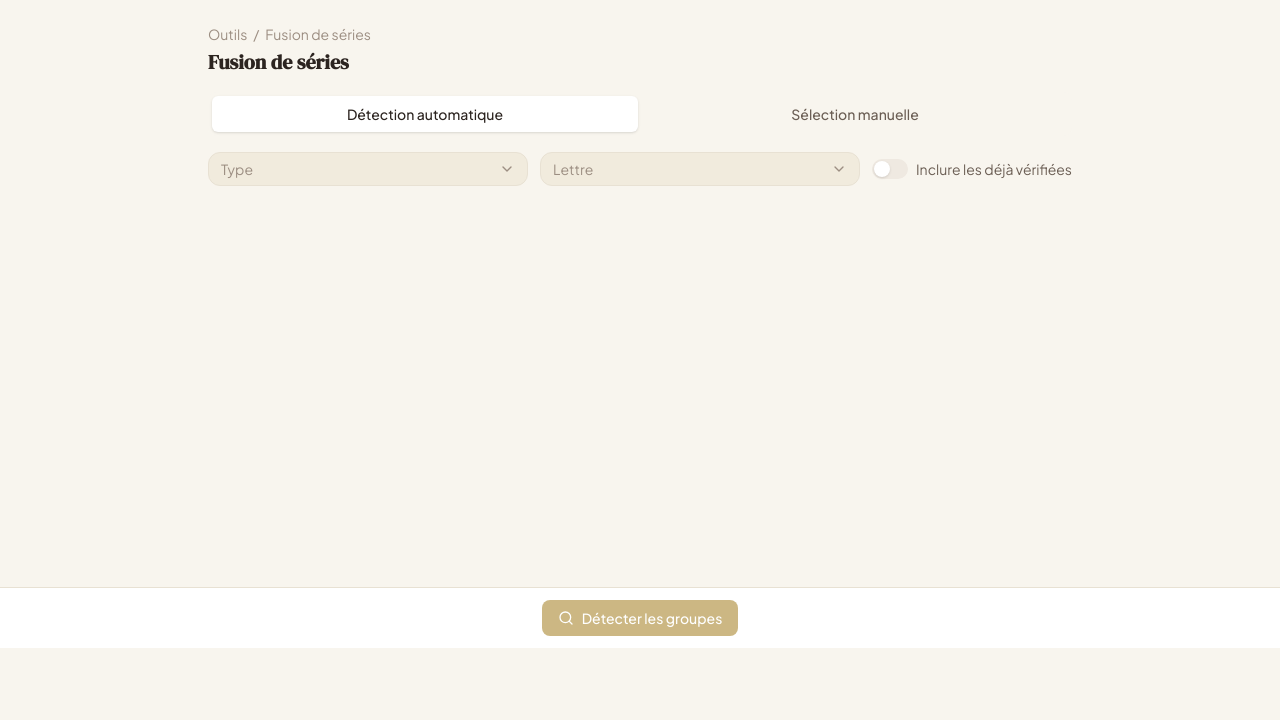
Test: MergeSeries › manual preview button is in a sticky action bar
Step 1. Click the tab "Sélection manuelle" → (855, 114), box [642, 96, 1068, 132]
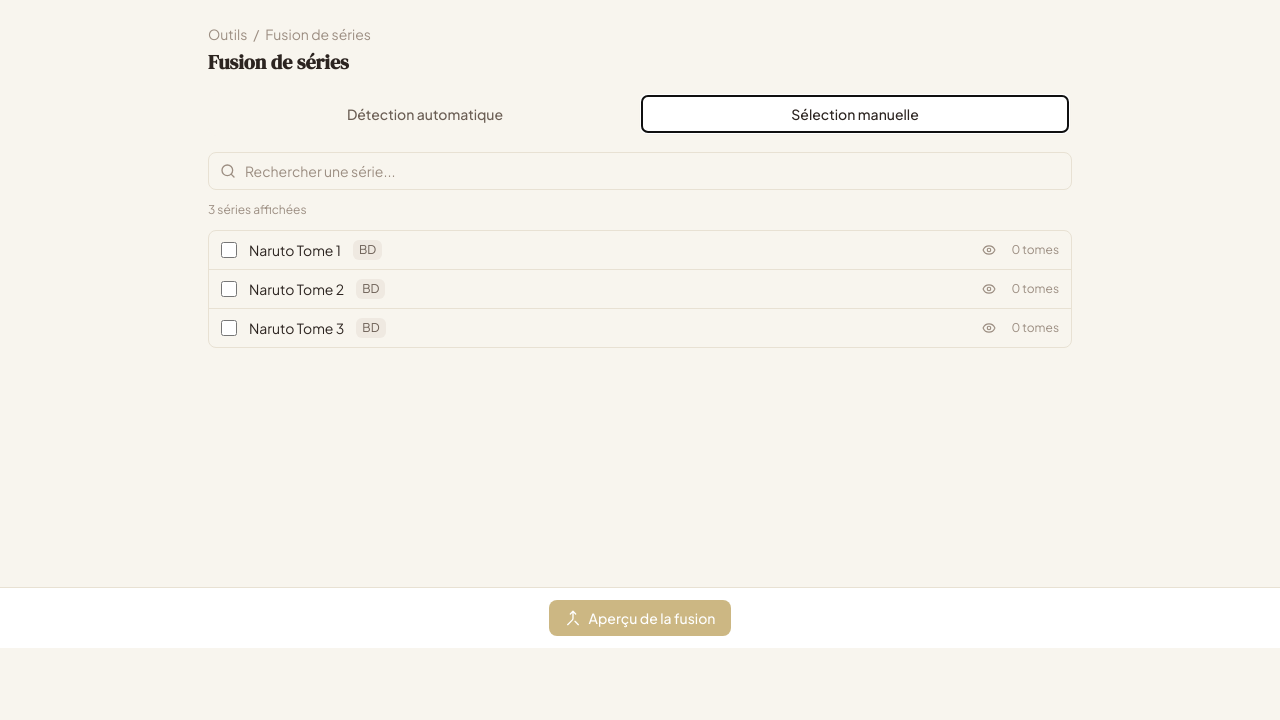
Expected: the element "Aperçu de la fusion" is shown, [0, 587, 1279, 648]
